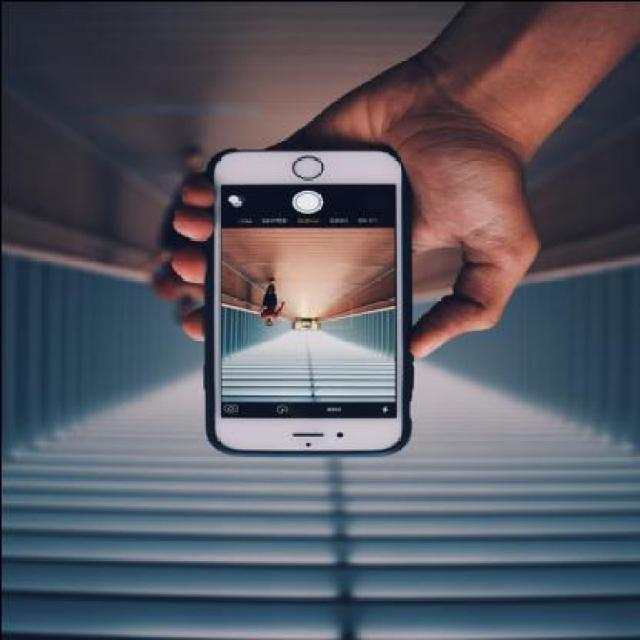phone: (206, 140, 412, 458)
